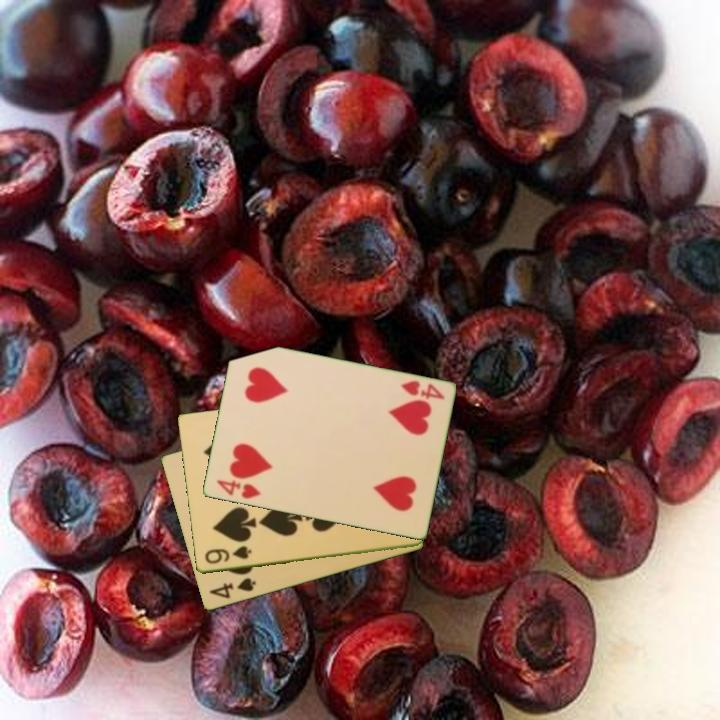4h: (212, 476, 263, 502), (397, 377, 448, 402)
4s: (206, 574, 259, 602)
9s: (201, 542, 254, 567)
